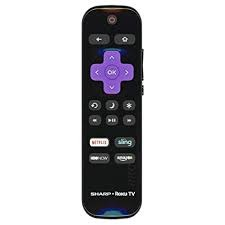remote control: (77, 7, 153, 220)
